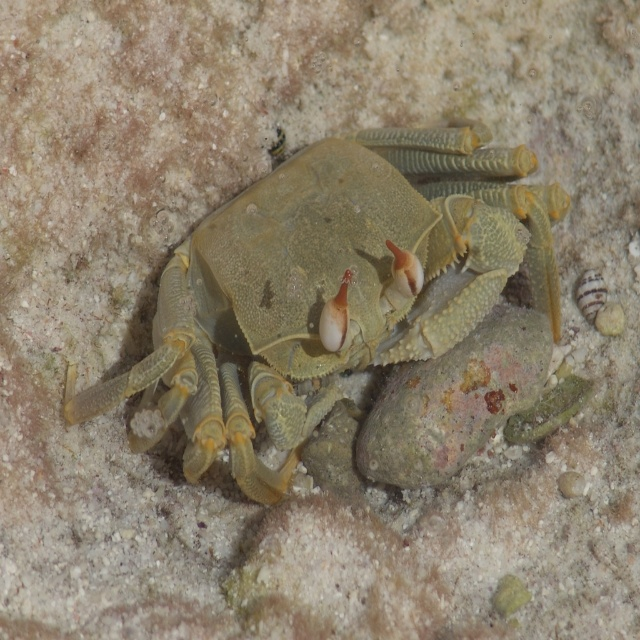Crab: (59, 124, 586, 508)
